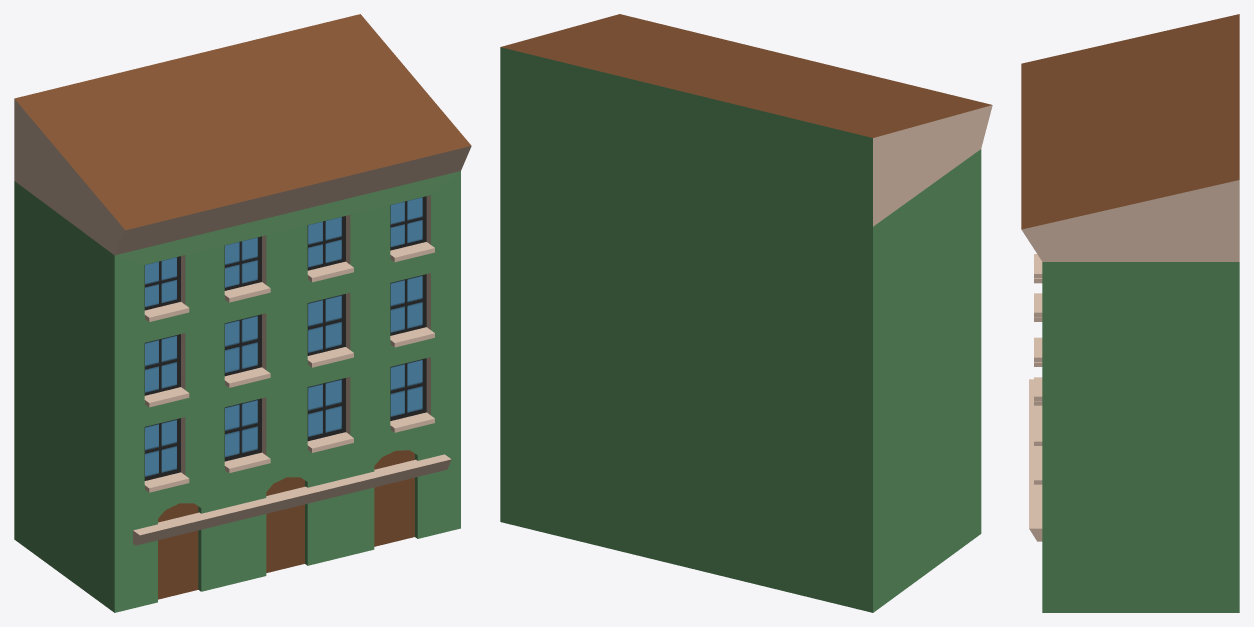
Rendered from BigGreen.obj.
3 views of the same model, side by side, from view 1: azimuth 30°, elevation 25°; view 2: azimuth 150°, elevation 25°; view 3: azimuth 270°, elevation 25° (orthographic). The views are drawn at different scales.
Visible parts, largest first — view 1: DuzyZwyklyZielony; view 2: DuzyZwyklyZielony; view 3: DuzyZwyklyZielony.
Part boxes in pixels (x1,y1,x2,y2): DuzyZwyklyZielony: [14, 14, 471, 612]; DuzyZwyklyZielony: [500, 14, 992, 612]; DuzyZwyklyZielony: [1021, 14, 1239, 612].
Size of the model in its own units: 10.96 by 13.33 by 6.09.
